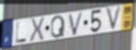5: (90, 8, 103, 34)
L: (15, 21, 27, 44)
Q: (50, 14, 66, 40)
V: (105, 4, 123, 33), (67, 11, 84, 37)
X: (29, 16, 46, 44)
